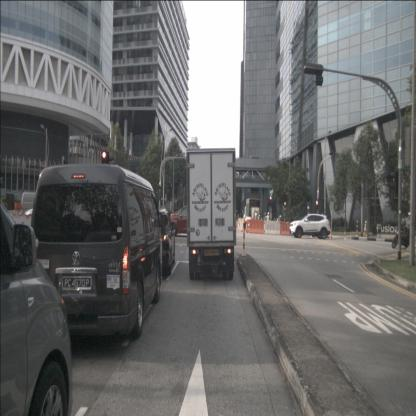movable_object-barrier: (264, 220, 281, 235), (249, 219, 264, 234), (280, 221, 293, 236), (240, 220, 244, 232)
movable_object-trafficcone: (245, 222, 248, 233), (329, 230, 332, 240)
vehicle-car: (30, 163, 163, 343), (0, 198, 73, 416), (137, 209, 175, 276), (168, 204, 212, 237), (21, 191, 62, 223), (289, 214, 331, 240)
vehicle-motorcycle: (392, 212, 412, 249)
vehicle-truck: (186, 148, 236, 280), (244, 198, 262, 224)
